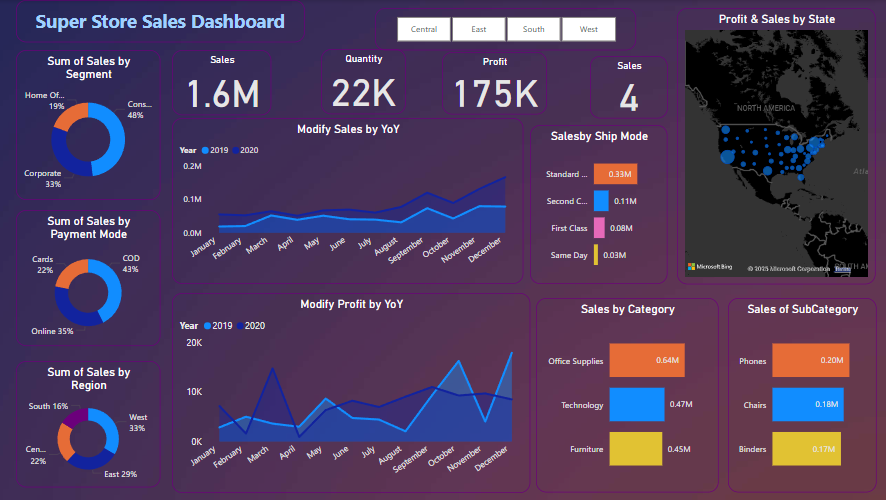

The page's visual inventory and layout, read from the dashboard file:
{"tool":"powerbi","page":{"name":"Page 1","canvas":[1280,720],"ordinal":0},"visuals":[{"type":"clusteredBarChart","title":"Sales by Category","fields":{"Category":["SuperStore_Sales_Dataset (2).Category"],"Y":["Sum(SuperStore_Sales_Dataset (2).Sales)"]},"box":[774.5,429.4,262.7,280.4],"z":0},{"type":"clusteredBarChart","title":"Salesby Ship Mode","fields":{"Y":["Sum(SuperStore_Sales_Dataset (2).Sales)"],"Category":["SuperStore_Sales_Dataset (2).Ship Mode","SuperStore_Sales_Dataset (2).Sub-Category"]},"box":[766.7,180.4,198,229.4],"z":1000},{"type":"clusteredBarChart","title":"Sales of SubCategory","fields":{"Y":["Sum(SuperStore_Sales_Dataset (2).Sales)"],"Category":["SuperStore_Sales_Dataset (2).Sub-Category"]},"box":[1051,429.4,213.7,280.4],"z":2000},{"type":"areaChart","title":"Modify Sales by YoY","fields":{"Category":["SuperStore_Sales_Dataset (2).Order Date.Variation.Date Hierarchy.Month","SuperStore_Sales_Dataset (2).Order Date.Variation.Date Hierarchy.Day"],"Y":["Sum(SuperStore_Sales_Dataset (2).Sales)"],"Series":["SuperStore_Sales_Dataset (2).Order Date.Variation.Date Hierarchy.Year"]},"box":[251,170.6,505.9,239.2],"z":3000},{"type":"areaChart","title":"Modify Profit by YoY","fields":{"Category":["SuperStore_Sales_Dataset (2).Order Date.Variation.Date Hierarchy.Month","SuperStore_Sales_Dataset (2).Order Date.Variation.Date Hierarchy.Day"],"Series":["SuperStore_Sales_Dataset (2).Order Date.Variation.Date Hierarchy.Year"],"Y":["Sum(SuperStore_Sales_Dataset (2).Profit)"]},"box":[251,421.6,515.7,288.2],"z":4000},{"type":"map","title":"Profit & Sales by State","fields":{"Category":["SuperStore_Sales_Dataset (2).State"],"Size":["Sum(SuperStore_Sales_Dataset (2).Sales)"]},"box":[978.4,11.8,286.3,398],"z":5000},{"type":"donutChart","fields":{"Category":["SuperStore_Sales_Dataset (2).Segment"],"Y":["Sum(SuperStore_Sales_Dataset (2).Sales)"]},"box":[25.5,72.5,207.8,215.7],"z":6000},{"type":"donutChart","fields":{"Y":["Sum(SuperStore_Sales_Dataset (2).Sales)"],"Category":["SuperStore_Sales_Dataset (2).Region"]},"box":[25.5,519.6,207.8,182.4],"z":7000},{"type":"donutChart","fields":{"Y":["Sum(SuperStore_Sales_Dataset (2).Sales)"],"Category":["SuperStore_Sales_Dataset (2).Payment Mode"]},"box":[25.5,302,207.8,196.1],"z":8000},{"type":"slicer","fields":{"Values":["SuperStore_Sales_Dataset (2).Region"]},"box":[543.1,11.8,376.5,60.8],"z":9000},{"type":"textbox","box":[25.5,0,415.7,60.8],"z":10000},{"type":"card","title":"Sales","fields":{"Values":["Sum(SuperStore_Sales_Dataset (2).Sales)"]},"box":[250.6,72,191.5,95],"z":11000},{"type":"card","title":"Quantity","fields":{"Values":["Sum(SuperStore_Sales_Dataset (2).Quantity)"]},"box":[465.1,70.6,155.5,93.6],"z":12000},{"type":"card","title":"Profit","fields":{"Values":["Sum(SuperStore_Sales_Dataset (2).Profit)"]},"box":[639.4,74.9,165.6,89.3],"z":13000},{"type":"card","title":"Sales","fields":{"Values":["Avg(SuperStore_Sales_Dataset .AvgDelivery)"]},"box":[825.1,80.6,139.7,83.5],"z":14000}]}

Visuals, with their boxes in screenshot pixels (x1, y1, x2, y2), scaled from the page's 1280x720 canvas onto the 886x500 screenshot:
"Sales by Category" clusteredBarChart: {"x1": 536, "y1": 298, "x2": 718, "y2": 493}
"Salesby Ship Mode" clusteredBarChart: {"x1": 531, "y1": 125, "x2": 668, "y2": 285}
"Sales of SubCategory" clusteredBarChart: {"x1": 727, "y1": 298, "x2": 875, "y2": 493}
"Modify Sales by YoY" areaChart: {"x1": 174, "y1": 118, "x2": 524, "y2": 285}
"Modify Profit by YoY" areaChart: {"x1": 174, "y1": 293, "x2": 531, "y2": 493}
"Profit & Sales by State" map: {"x1": 677, "y1": 8, "x2": 875, "y2": 285}
donutChart - SuperStore_Sales_Dataset (2).Segment x Sum(SuperStore_Sales_Dataset (2).Sales): {"x1": 18, "y1": 50, "x2": 161, "y2": 200}
donutChart - Sum(SuperStore_Sales_Dataset (2).Sales) x SuperStore_Sales_Dataset (2).Region: {"x1": 18, "y1": 361, "x2": 161, "y2": 488}
donutChart - Sum(SuperStore_Sales_Dataset (2).Sales) x SuperStore_Sales_Dataset (2).Payment Mode: {"x1": 18, "y1": 210, "x2": 161, "y2": 346}
slicer - SuperStore_Sales_Dataset (2).Region: {"x1": 376, "y1": 8, "x2": 637, "y2": 50}
textbox: {"x1": 18, "y1": 0, "x2": 305, "y2": 42}
"Sales" card: {"x1": 173, "y1": 50, "x2": 306, "y2": 116}
"Quantity" card: {"x1": 322, "y1": 49, "x2": 430, "y2": 114}
"Profit" card: {"x1": 443, "y1": 52, "x2": 557, "y2": 114}
"Sales" card: {"x1": 571, "y1": 56, "x2": 668, "y2": 114}
